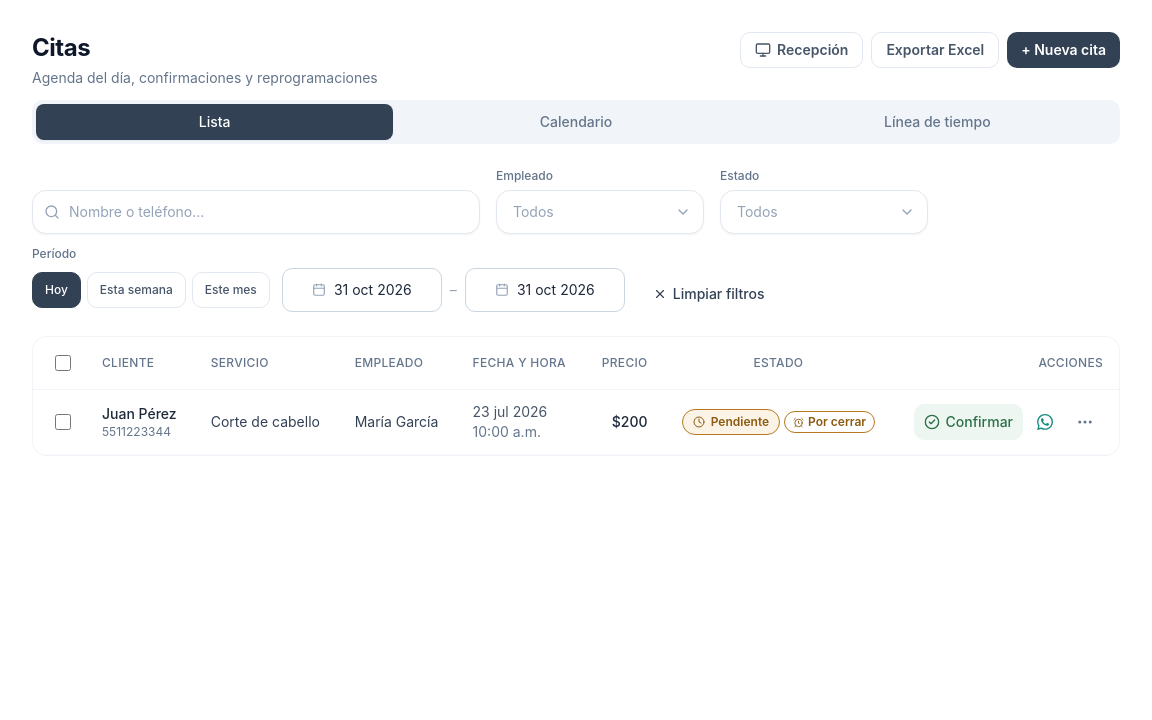
Scenario: CitasPage — botones de acción en filas › Reagendar está en la hoja de acciones de la fila, también en pantallas pequeñas
Click the button named "Acciones de la cita de Juan Pérez" at (1085, 422), box [1067,404,1103,440]
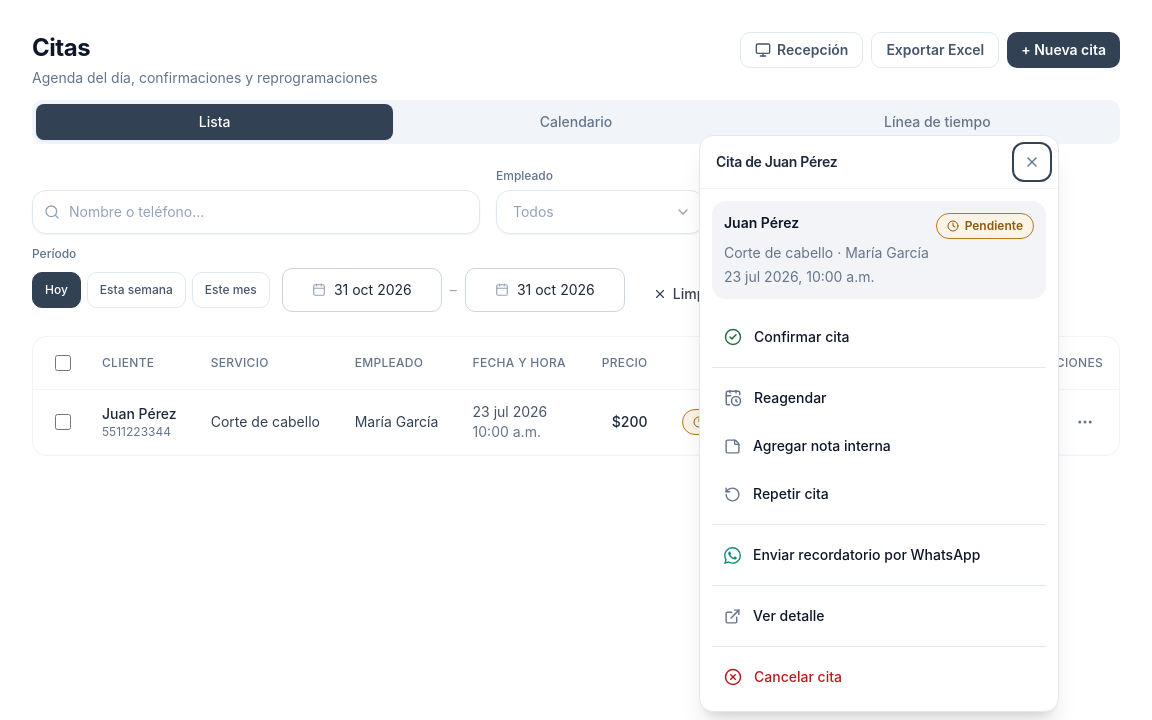
Result: the button "Reagendar" is shown at [712,376,1046,420]
